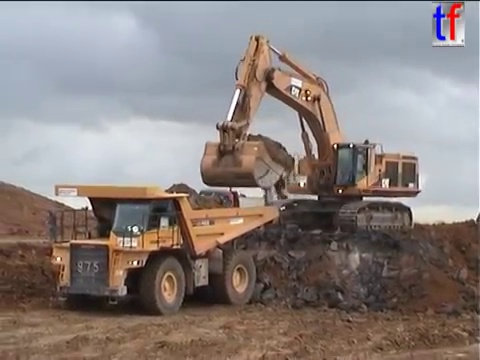excavator: (197, 32, 426, 241), (44, 181, 281, 317)
truck: (195, 184, 289, 230)
